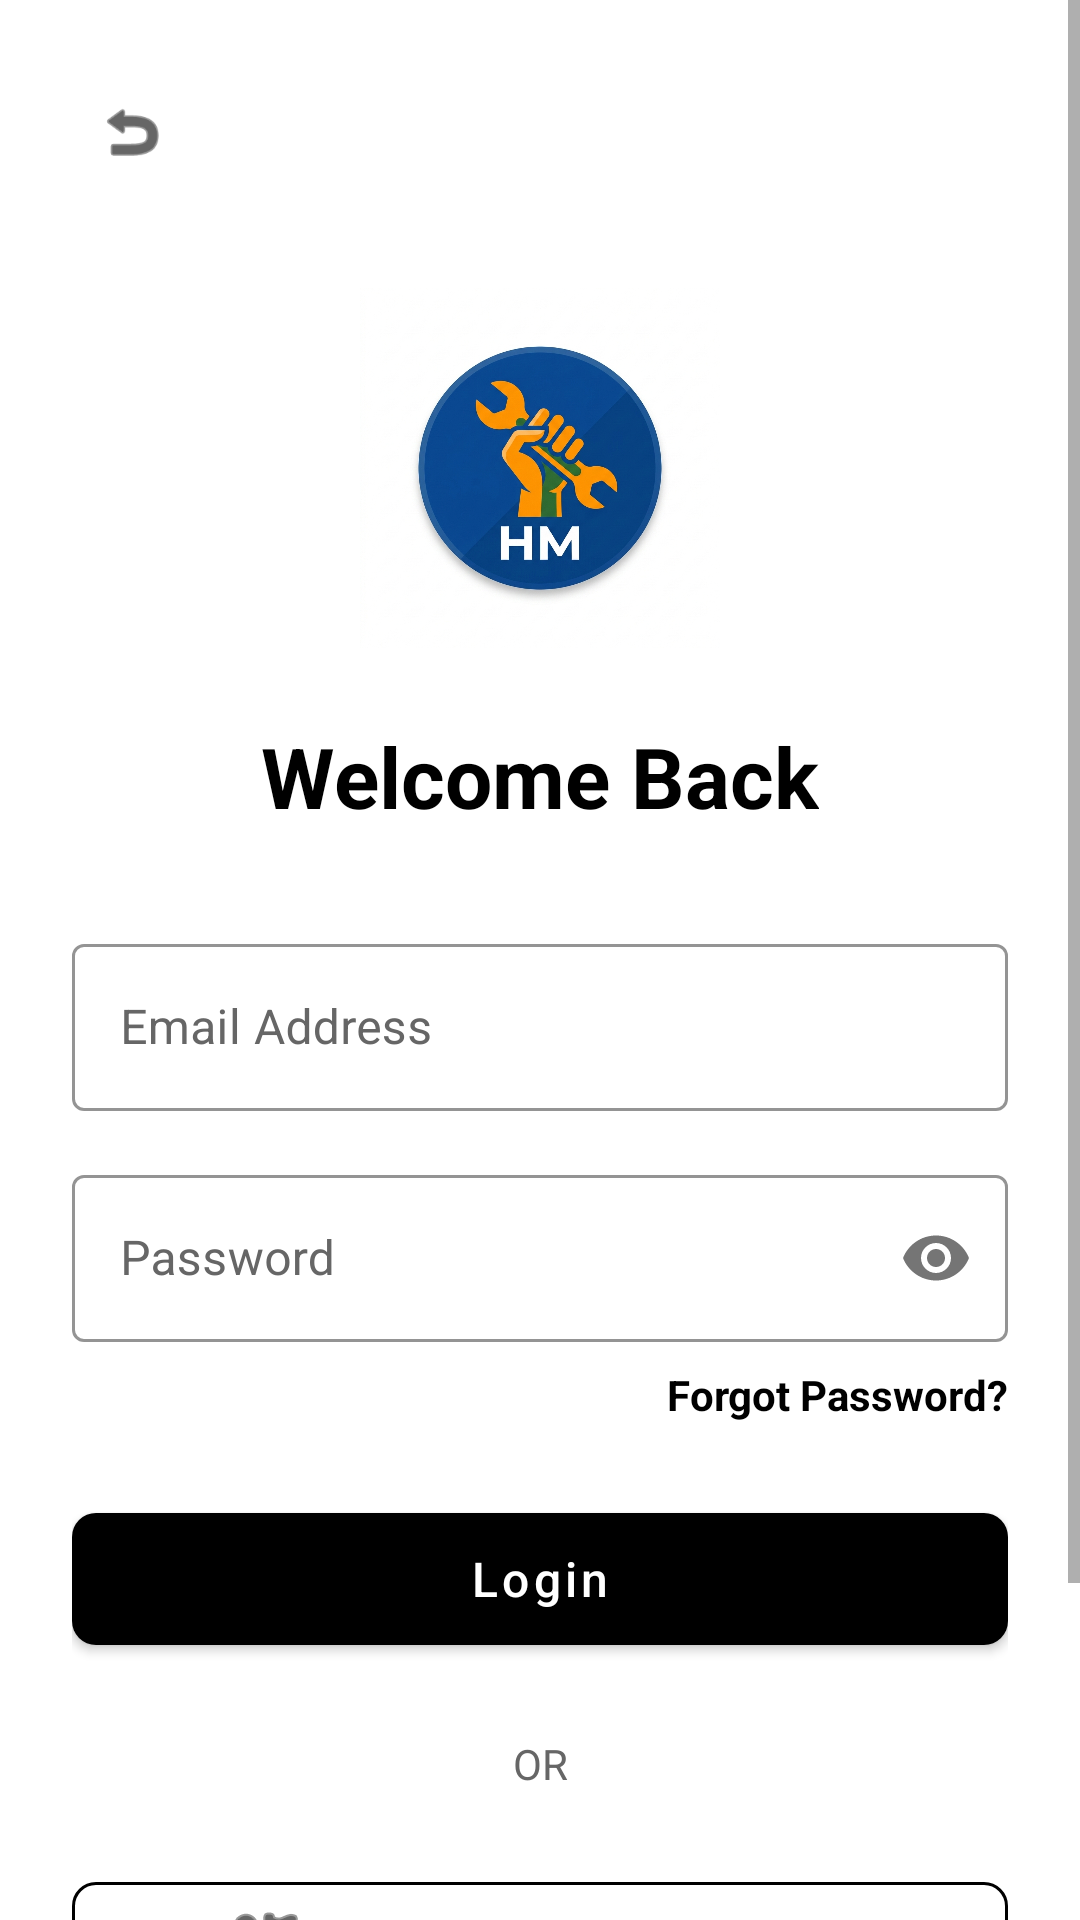

Icons on this 1080*1920 Android screen, each with the point to tap as (x=x, y=y):
Back: (x=133, y=132)
